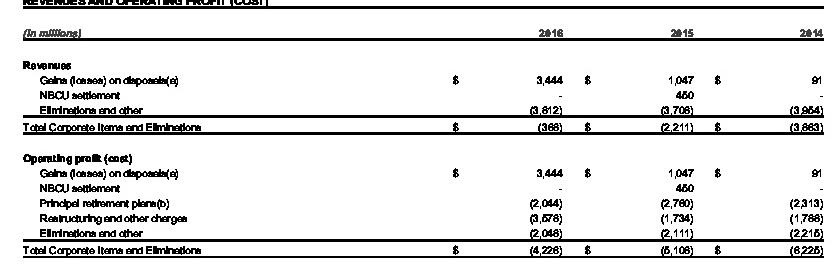table: (0, 0, 840, 273)
